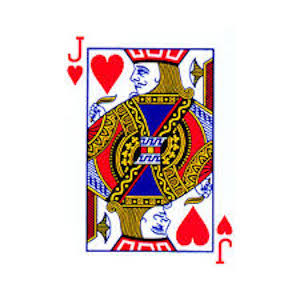JackOfHearts: (60, 27, 246, 269)
